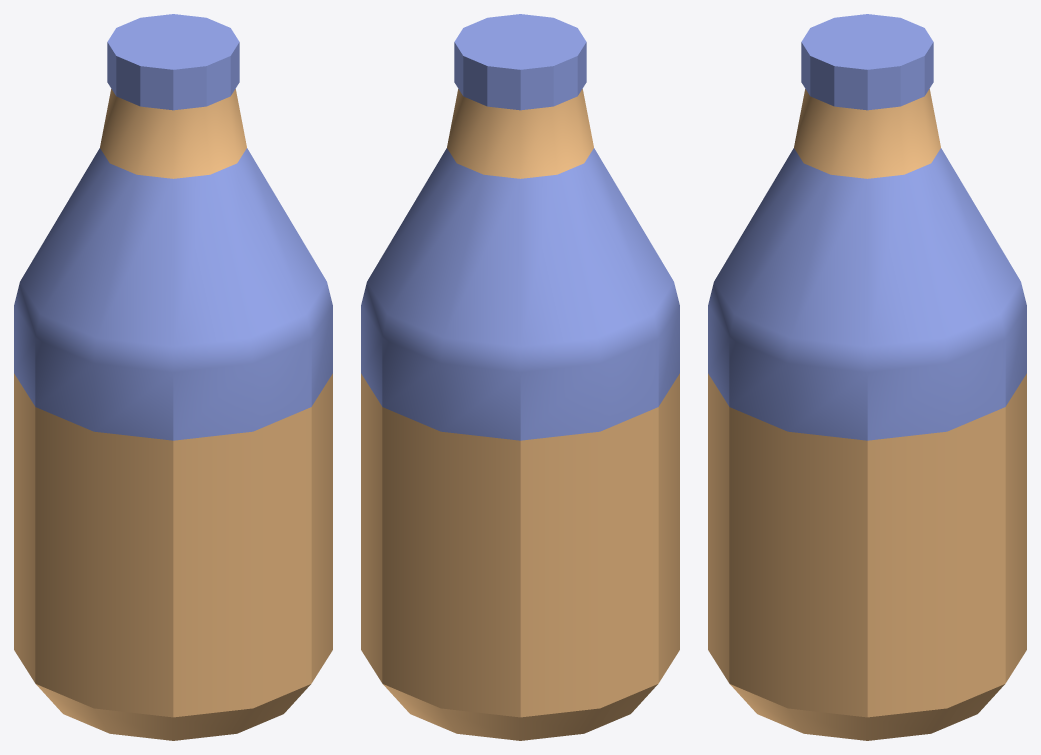
File: Ürün58.fbx
3 renders of one model, left to right at view 1: azimuth 30°, elevation 25°; view 2: azimuth 150°, elevation 25°; view 3: azimuth 270°, elevation 25°, orthographic.
Parts seen in each view (by area): view 1: pCylinder34; view 2: pCylinder34; view 3: pCylinder34.
Part boxes in pixels (left/top/right/bottom): pCylinder34: left=14, top=14, right=332, bottom=740; pCylinder34: left=361, top=14, right=679, bottom=740; pCylinder34: left=708, top=14, right=1026, bottom=740.
Bounding box in the file's own units: 8.52 × 19.04 × 8.52.
